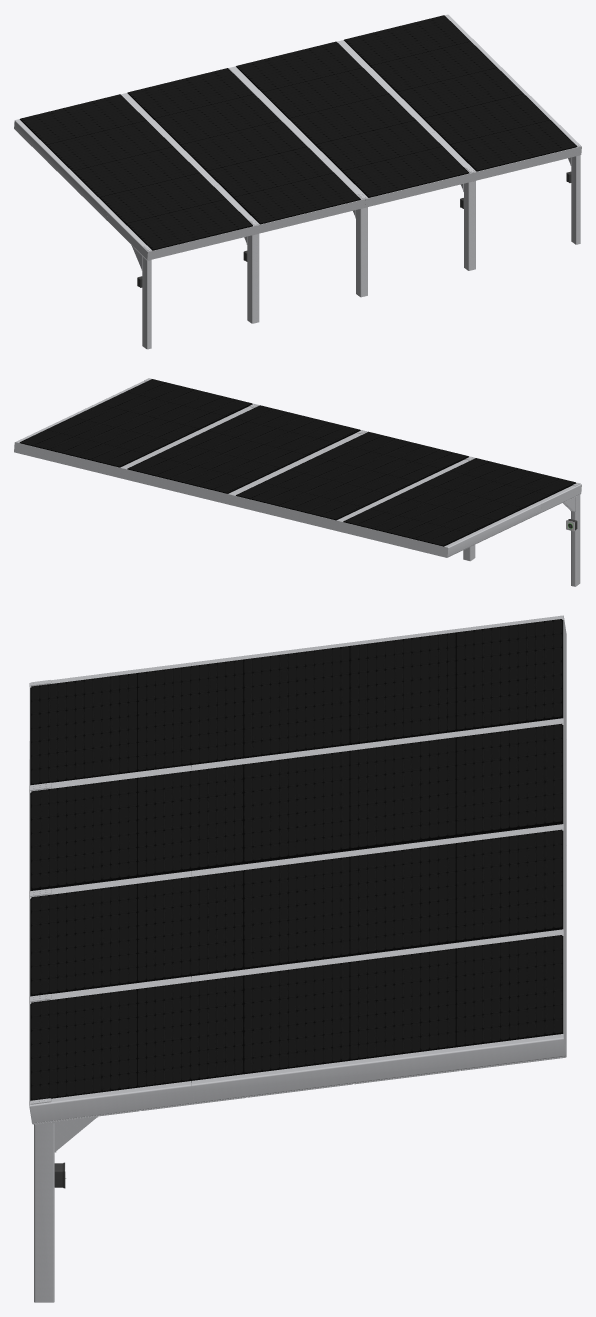
Rendered from Cap_4.glb.
The picture shows the model from 3 angles, top to bottom: view 1: azimuth 30°, elevation 25°; view 2: azimuth 150°, elevation 25°; view 3: azimuth 270°, elevation 25°; orthographic projection. The views are drawn at different scales.
Parts seen in each view (by area): view 1: Left.083, Middle.041, Middle.040, Middle.045, Right.010; view 2: Left.083, Middle.040, Middle.041, Middle.045, Right.010; view 3: Middle.045, Middle.040, Middle.041, Left.083, Right.010.
Boxes of the visible parts, box(x1,y1,x2,y2) form: Left.083: box(14, 94, 256, 349); Middle.041: box(228, 41, 473, 297); Middle.040: box(121, 67, 365, 323); Middle.045: box(337, 15, 581, 270); Right.010: box(445, 14, 580, 244); Left.083: box(338, 458, 581, 586); Middle.040: box(230, 431, 475, 561); Middle.041: box(122, 405, 367, 505); Middle.045: box(14, 379, 259, 478); Right.010: box(16, 378, 151, 442); Middle.045: box(29, 929, 566, 1124); Middle.040: box(29, 718, 566, 894); Middle.041: box(29, 824, 566, 999); Left.083: box(29, 615, 566, 788); Right.010: box(29, 1034, 565, 1302).
Bounding box in the file's own units: 10.72 × 3.11 × 5.7.
5 materials, 5 textured.
